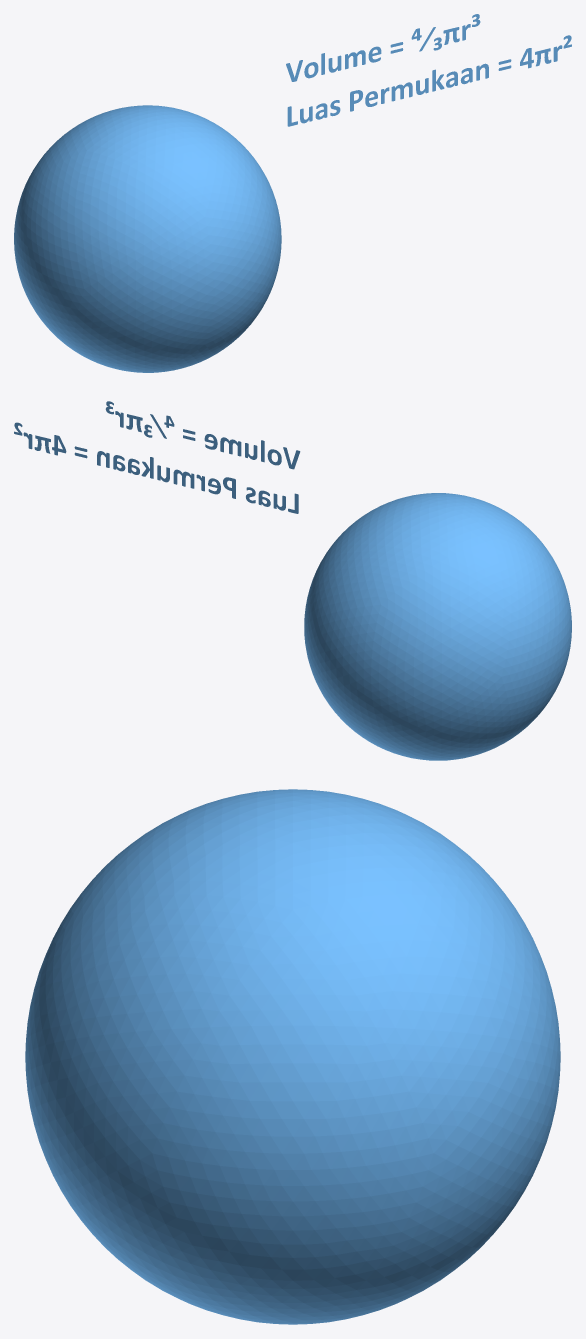
File: bola.glb
The picture shows the model from 3 angles, top to bottom: view 1: azimuth 30°, elevation 25°; view 2: azimuth 150°, elevation 25°; view 3: azimuth 270°, elevation 25°; orthographic projection. The views are drawn at different scales.
Parts seen in each view (by area): view 1: world.005, Text.001; view 2: world.005, Text.001; view 3: world.005.
Part boxes in pixels (x1,y1,x2,y2): world.005: [14, 105, 281, 372]; Text.001: [286, 14, 571, 126]; world.005: [304, 493, 571, 760]; Text.001: [14, 401, 300, 513]; world.005: [25, 789, 560, 1324].
Bounding box in the file's own units: 2.33 × 1.1 × 1.
